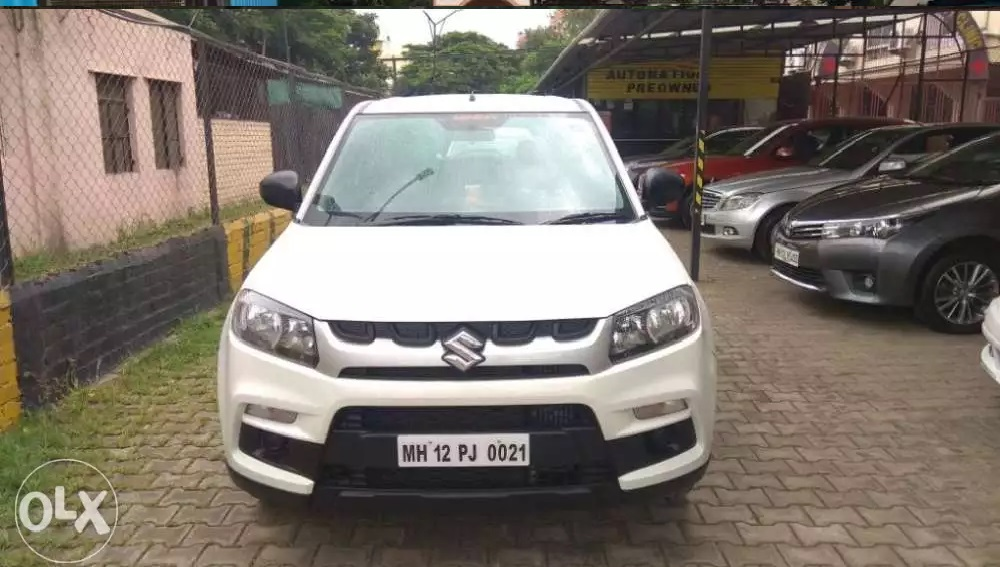licenseplate: (395, 432, 538, 471)
